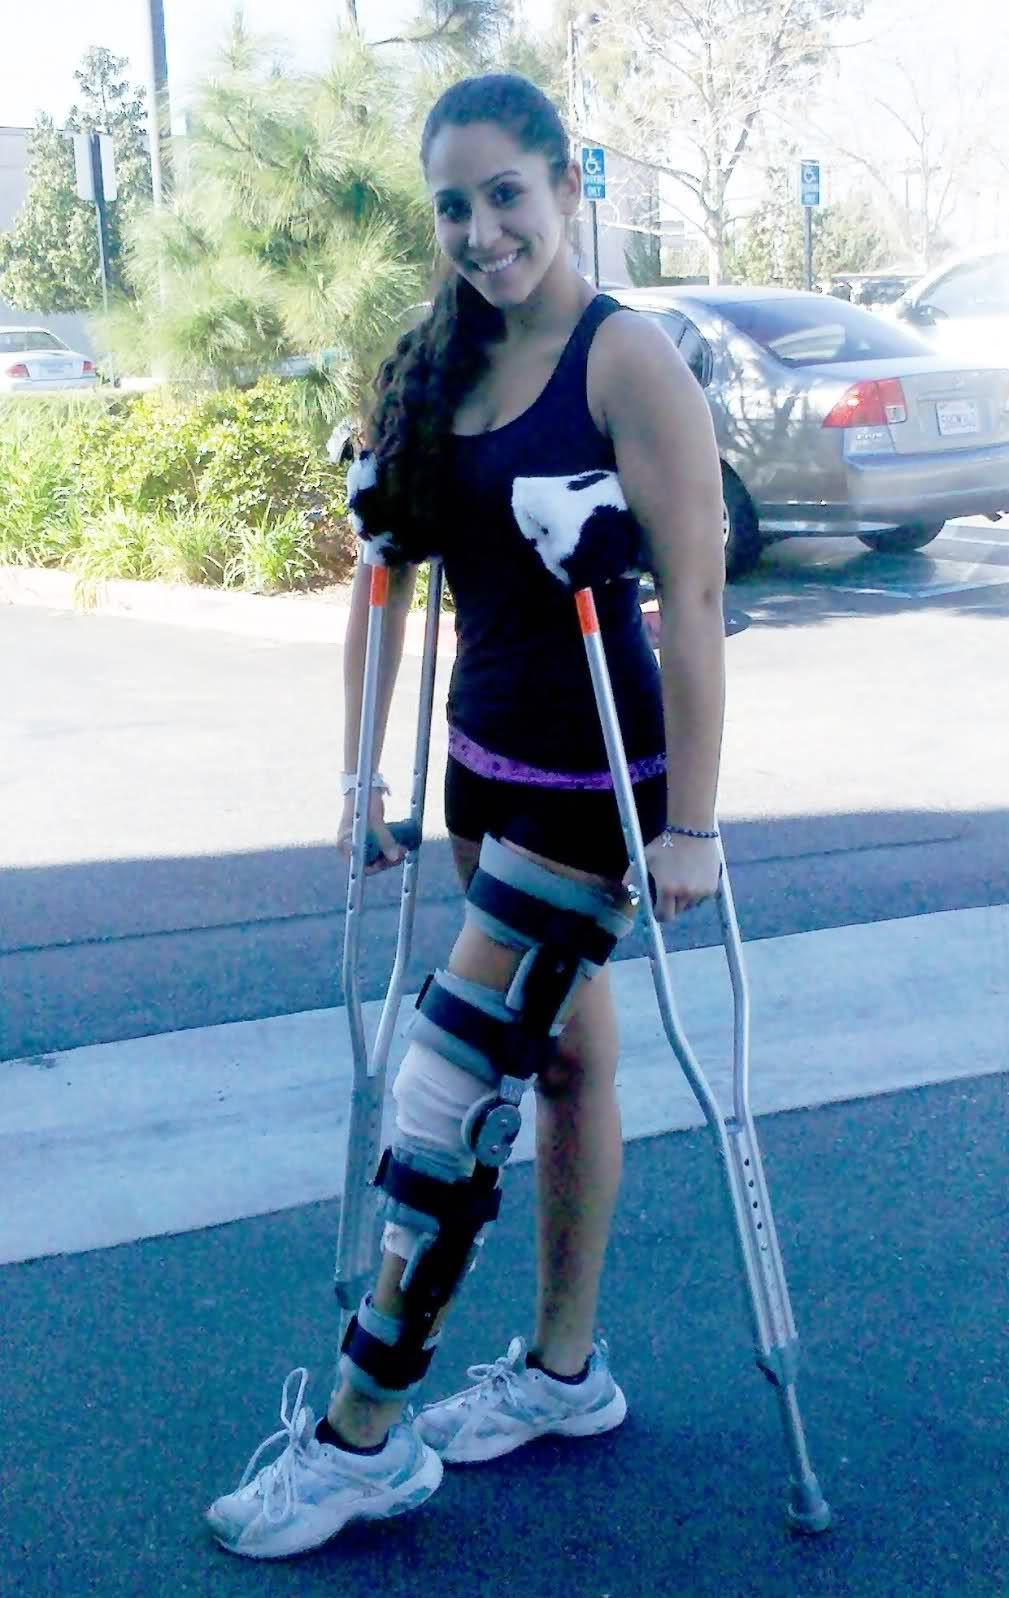crutches: (193, 37, 858, 1570)
